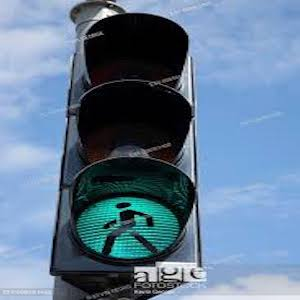green: (94, 195, 167, 257)
